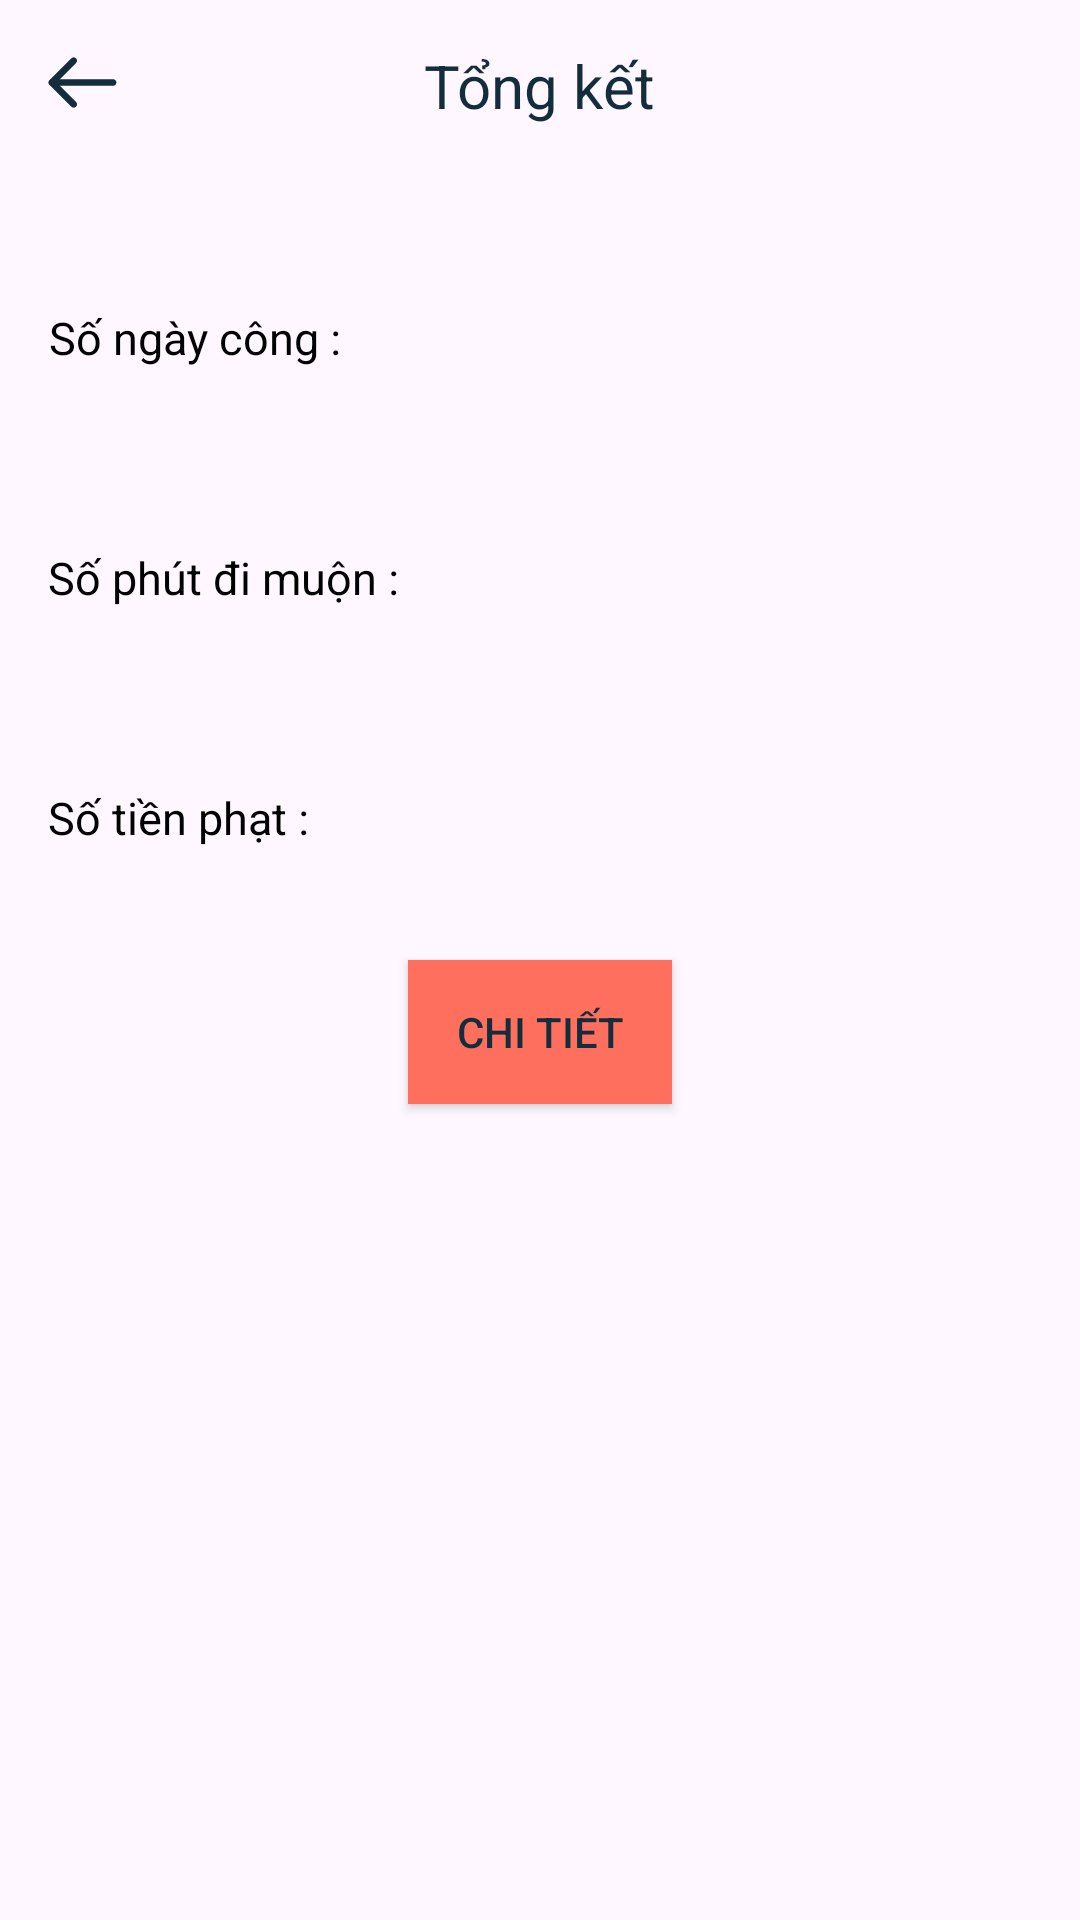

Locate icon controls on the screen. Image size 1080w x 1920h, boxes as (x1, y1, x2, y2).
back: (48, 57, 117, 108)
